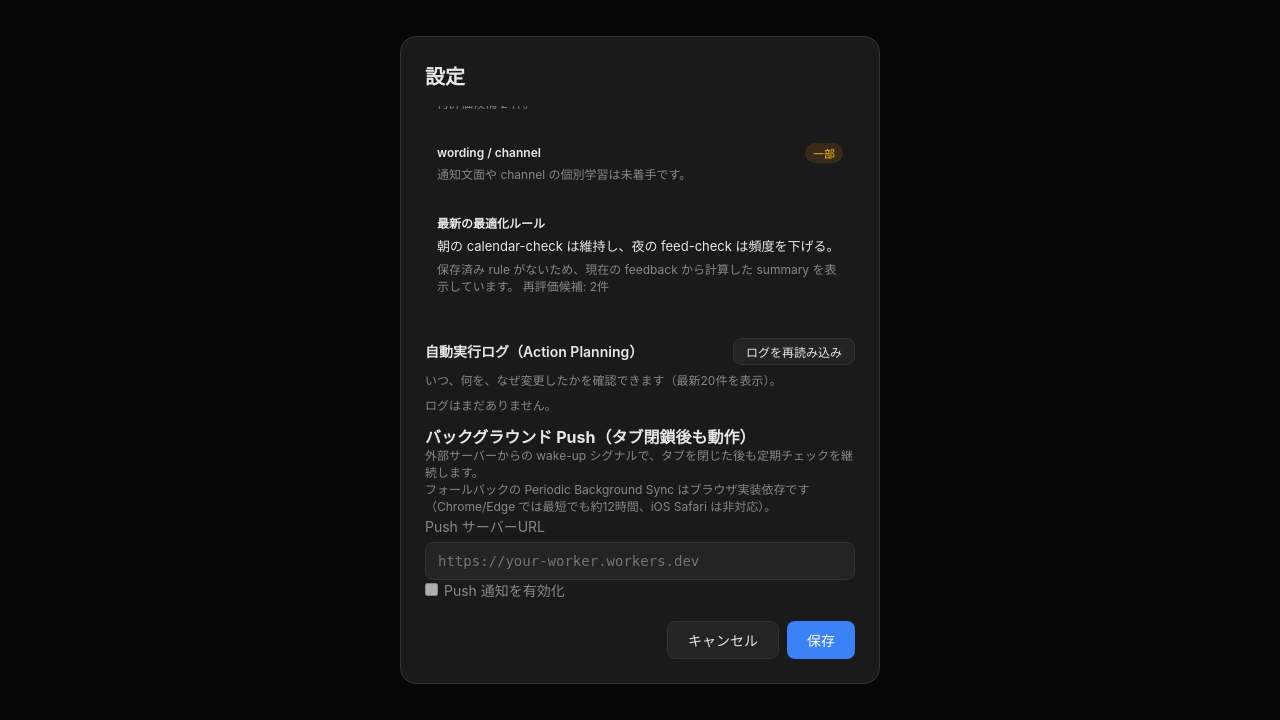
Test: SettingsModal › 自動実行ログの再読み込みボタンで最新ログを取得できる
(page scrolled)
Expected: the text "自動実行ログ（Action Planning）" is shown, left=425, top=343, right=643, bottom=360
Click the button "ログを再読み込み" at (794, 351), box left=733, top=338, right=855, bottom=365
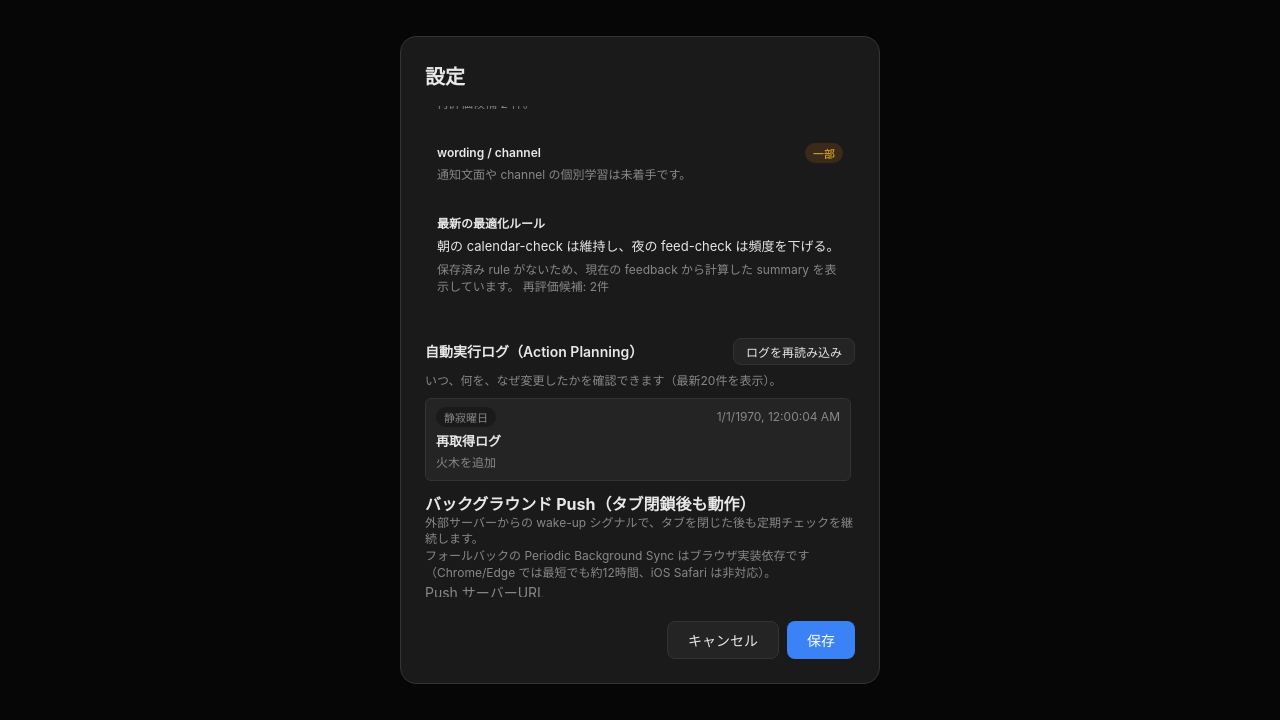
Expected: the text "再取得ログ" is shown, left=436, top=433, right=501, bottom=449
Expected: the text "静寂曜日" is shown, left=436, top=407, right=496, bottom=427
